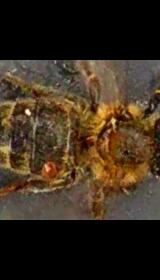varroa_mite: (38, 154, 65, 187)
